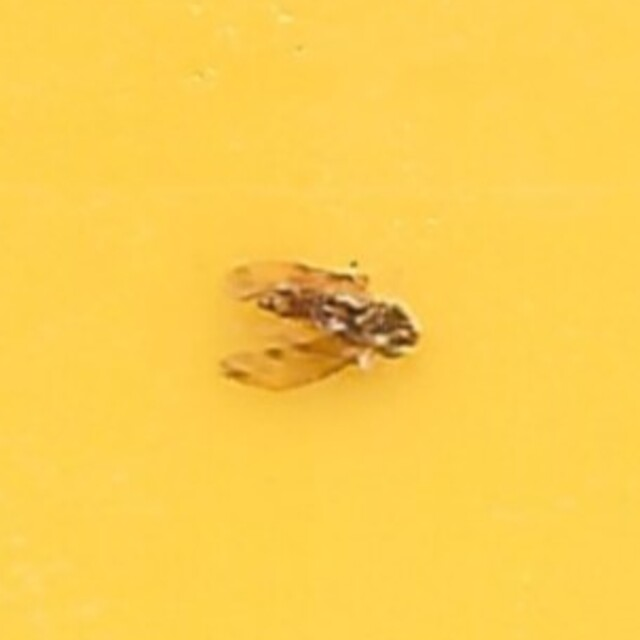Hemiptera: (211, 240, 429, 400)
